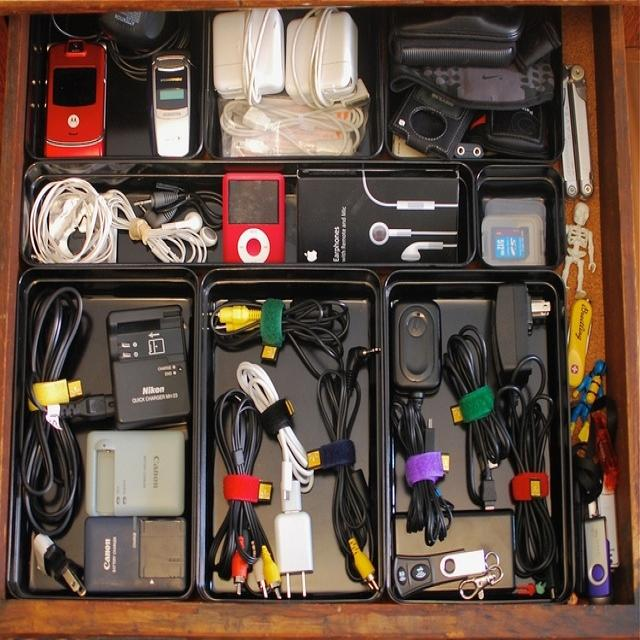Cable: (211, 292, 384, 595), (21, 286, 98, 588), (26, 164, 220, 273), (450, 331, 515, 514), (397, 382, 459, 548)
E-waste: (225, 8, 552, 170), (229, 172, 539, 275), (109, 299, 191, 591), (47, 27, 197, 159)
